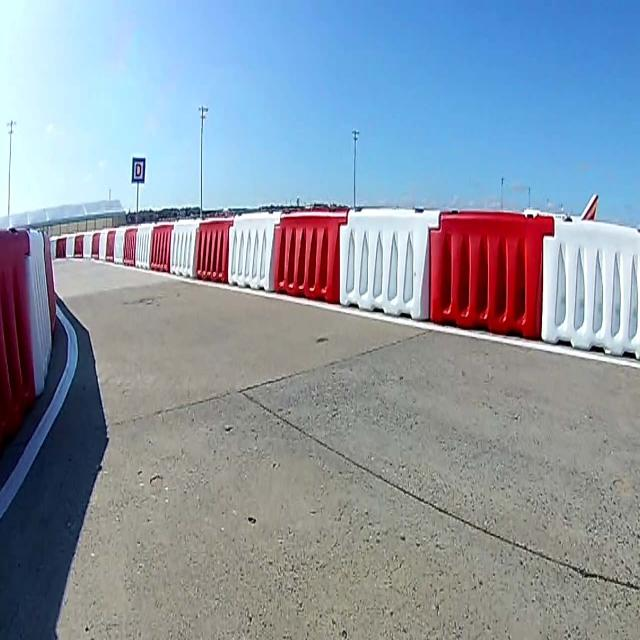durak: (132, 158, 144, 182)
